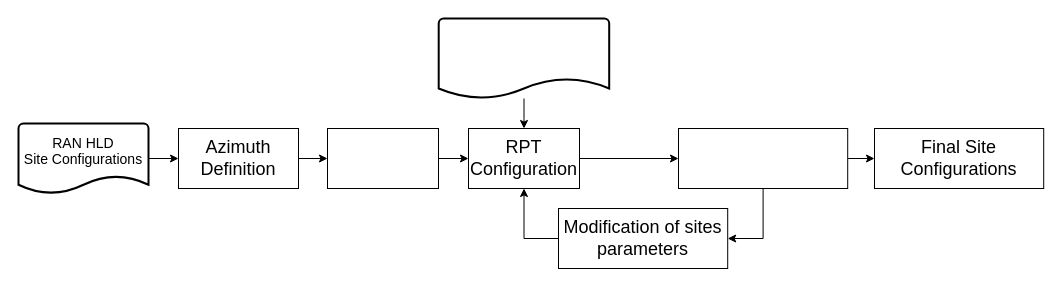
This 1061x286 diagram has some shape labels left out. Each missing label, with the centre of its shape:
Performance plots generation: the point at 763,158
Terrain Clutter Heigth map Existing network Configuration: the point at 523,58
Tilt Definition: the point at 382,158
